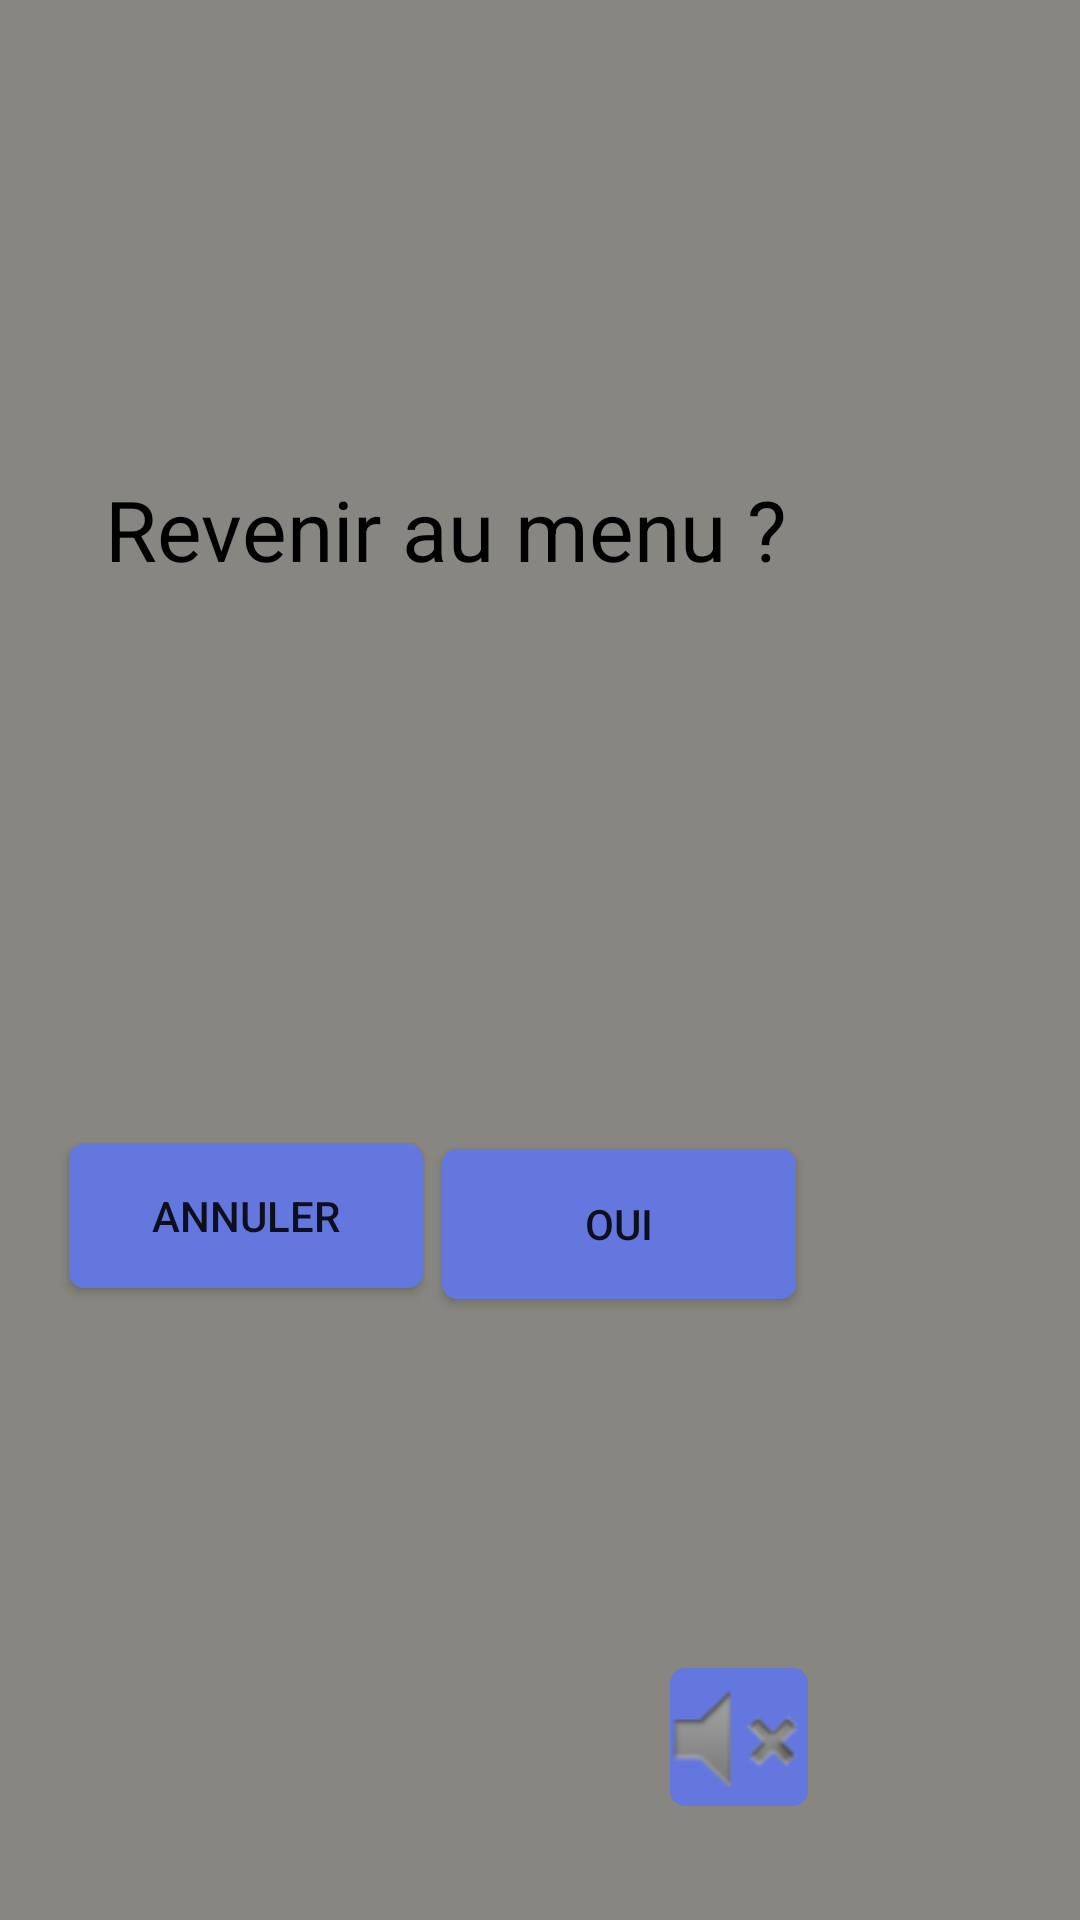

Icon bounding boxes for this 1080px x 1920px phone screenshot, format (x1, y1, x2, y2):
lock silent mode: (670, 1668, 808, 1806)
